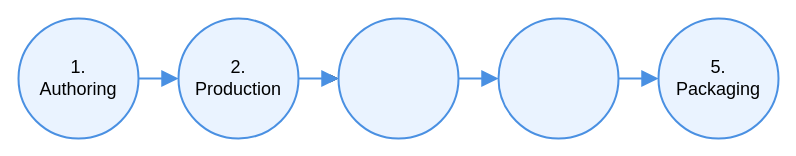
Image size: 796x156. Some labels were removed from this diagram. The centre of each missing label's shape, as x and y in pixels:
"3. Make Book" goes at [398,78].
"4. Multi-format" goes at [558,78].
